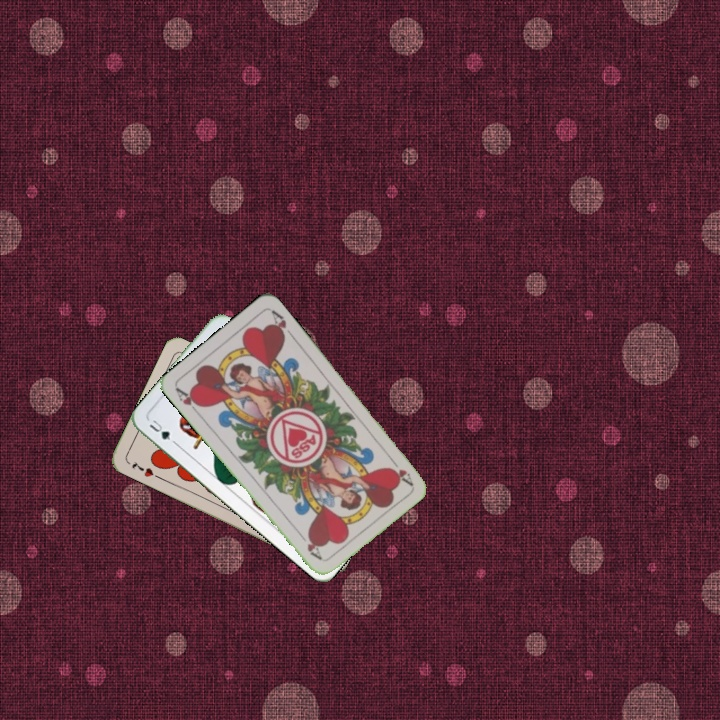GU: (145, 415, 173, 443)
H7: (128, 457, 163, 481)
HA: (172, 384, 205, 418), (385, 453, 415, 488)
